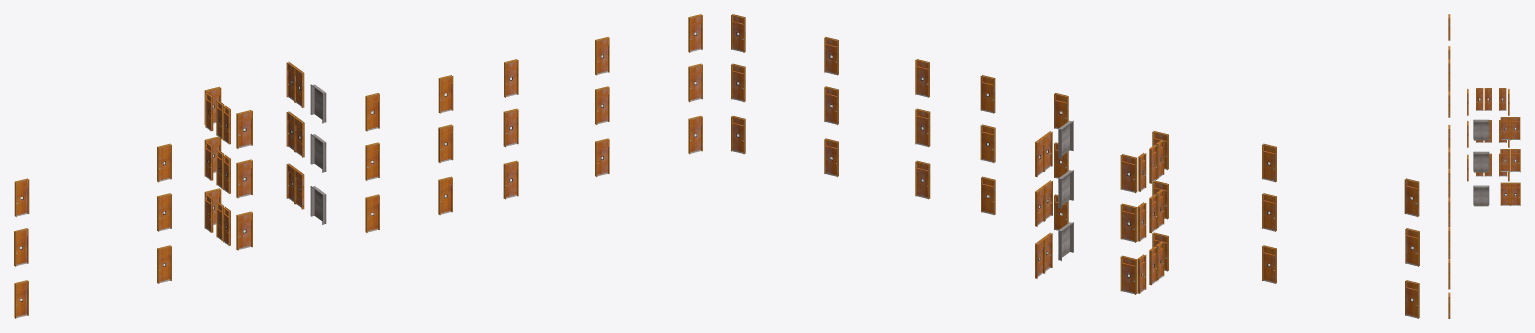
The model's file is PUERTAS.fbx.
The picture shows the model from 3 angles, left to right: view 1: azimuth 30°, elevation 25°; view 2: azimuth 150°, elevation 25°; view 3: azimuth 270°, elevation 25°; orthographic projection. The views are drawn at different scales.
Parts seen in each view (by area): view 1: no part large enough to name; view 2: no part large enough to name; view 3: Component_1_1, Component_1_2, Component_1_3, Component_1_4, Component_1_6, Component_1_5, Group143, Group531, Group843, Group23, Group579, Group795 (+6 smaller).
Part boxes in pixels (bbox=[...]): Component_1_1: bbox=[1474, 121, 1481, 140]; Component_1_2: bbox=[1481, 121, 1488, 140]; Component_1_3: bbox=[1474, 153, 1481, 172]; Component_1_4: bbox=[1481, 153, 1488, 172]; Component_1_6: bbox=[1481, 187, 1488, 206]; Component_1_5: bbox=[1474, 187, 1481, 206]; Group143: bbox=[1511, 122, 1519, 139]; Group531: bbox=[1511, 154, 1519, 171]; Group843: bbox=[1511, 188, 1519, 205]; Group23: bbox=[1501, 122, 1509, 138]; Group579: bbox=[1501, 154, 1509, 170]; Group795: bbox=[1501, 188, 1509, 204].
Size of the model in its own units: 55.26 by 10.47 by 7.75.
